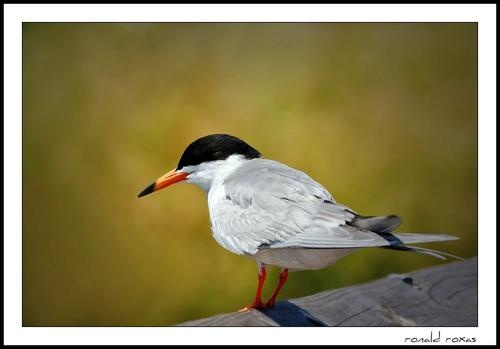bird: (136, 133, 468, 311)
